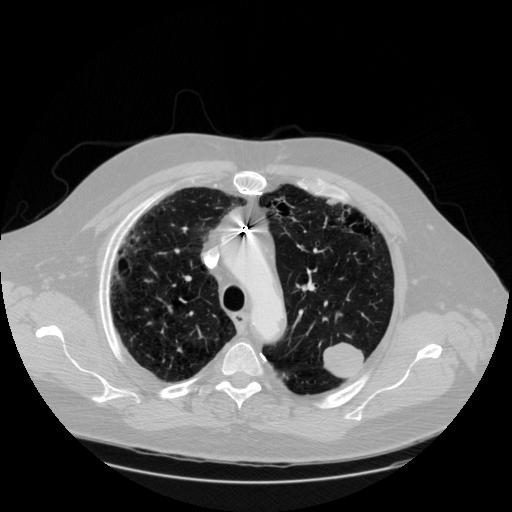nodule: (320, 339, 364, 383)
